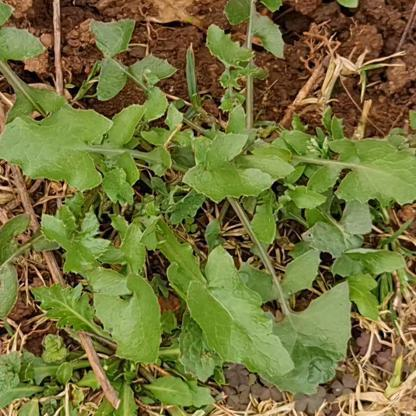Weeds: (4, 6, 415, 411)
